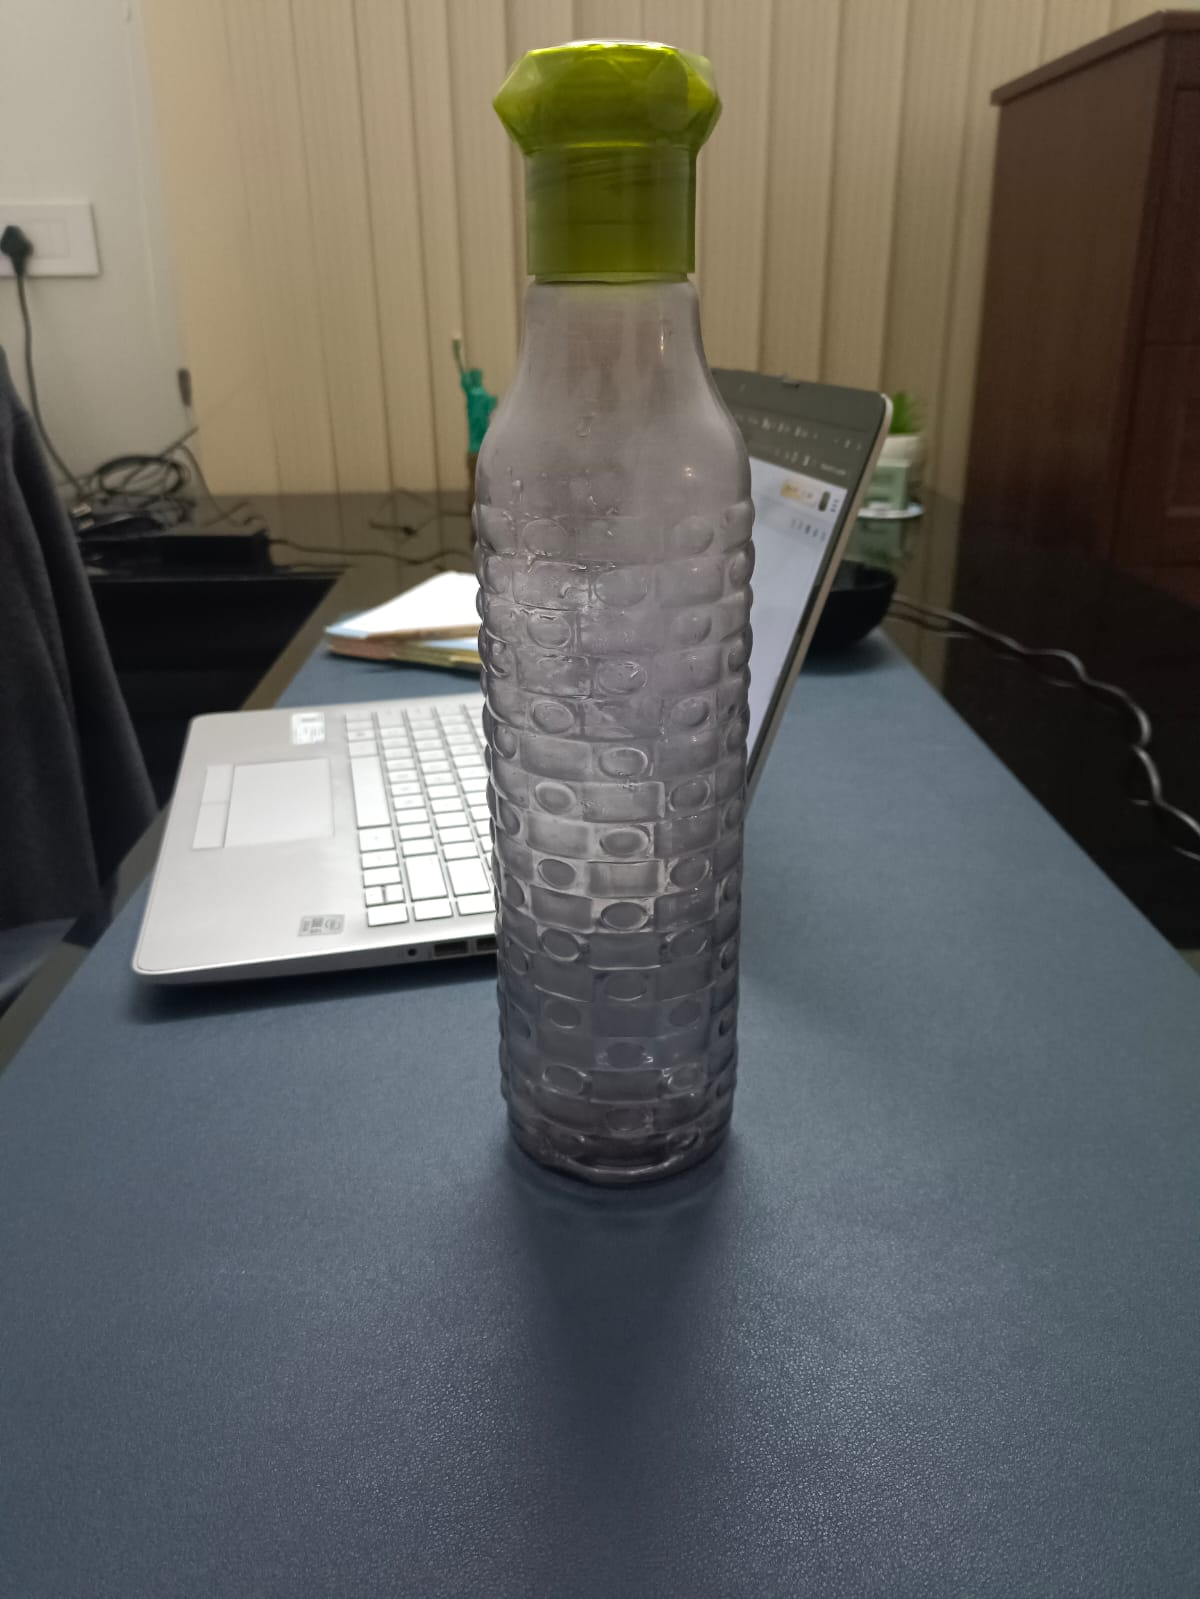bottle: (454, 33, 765, 1198)
